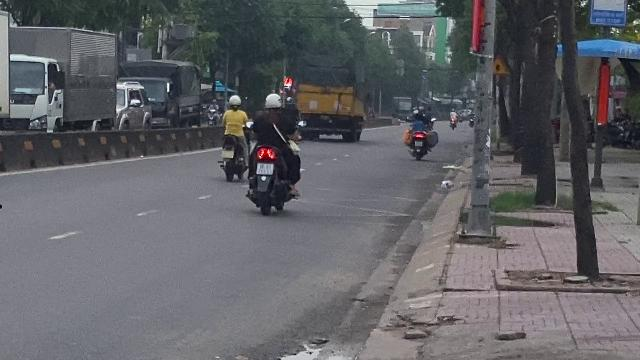helmet: (264, 92, 282, 110)
licenseplate: (257, 162, 273, 174)
motorcyclist: (244, 93, 304, 215)
